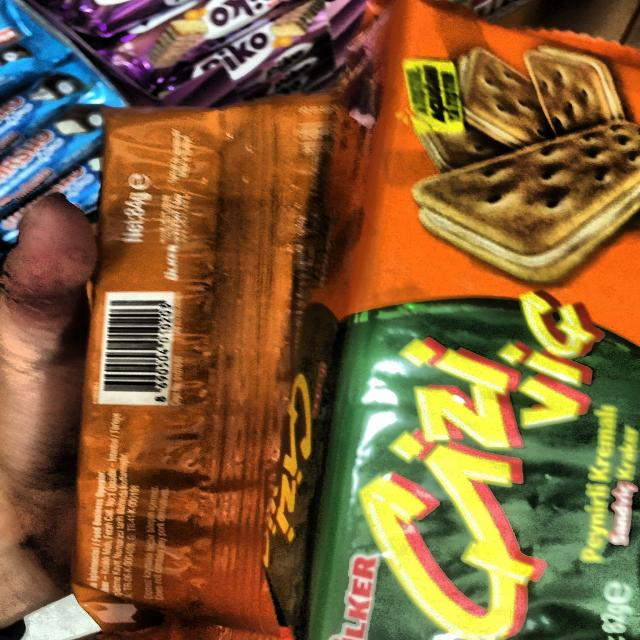Plastic: (343, 0, 640, 640), (65, 69, 350, 640)
